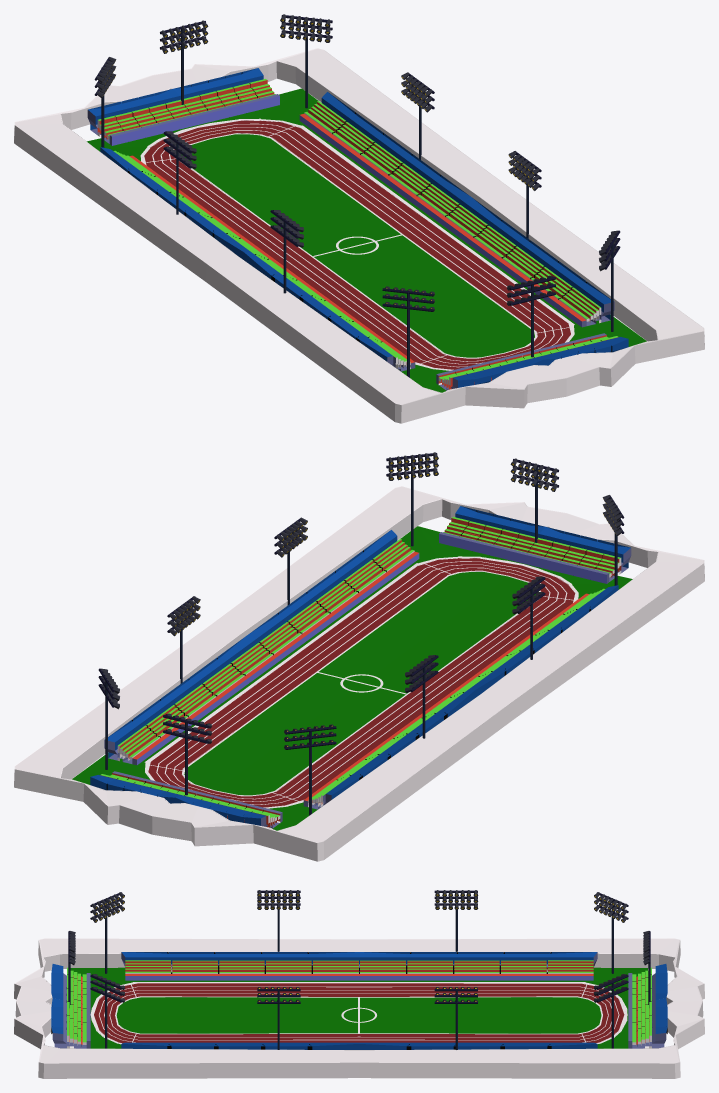
File: stadium.fbx
The picture shows the model from 3 angles, top to bottom: view 1: azimuth 30°, elevation 25°; view 2: azimuth 150°, elevation 25°; view 3: azimuth 270°, elevation 25°; orthographic projection. The views are drawn at different scales.
Parts seen in each view (by area): view 1: Plane.002; view 2: Plane.002; view 3: Plane.002.
Part boxes in pixels (x1,y1,x2,y2): Plane.002: (14,14,704,423); Plane.002: (14,452,704,861); Plane.002: (14,890,704,1078).
Size of the model in its own units: 6259 by 1809 by 14567.
